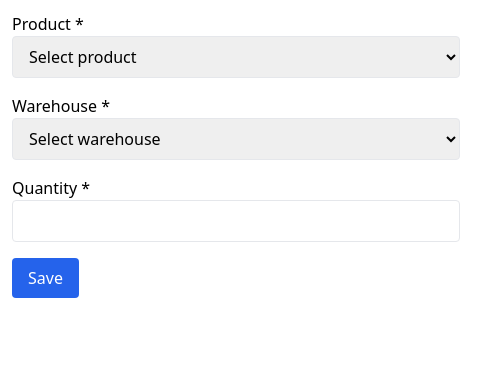
InventoryForm › shows validation errors for empty fields
Click the button "Save". click: (45, 278)
box: top-left (12, 258), bottom-right (79, 298)
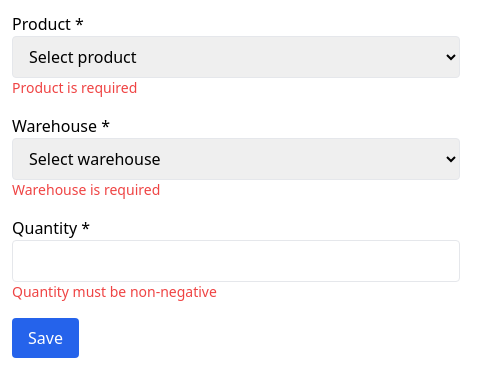
expect the text "Product is required" is shown: met, box top-left (12, 78), bottom-right (137, 97)
expect the text "Warehouse is required" is shown: met, box top-left (12, 180), bottom-right (160, 199)
expect the text "Quantity must be non-negative" is shown: met, box top-left (12, 282), bottom-right (217, 301)
